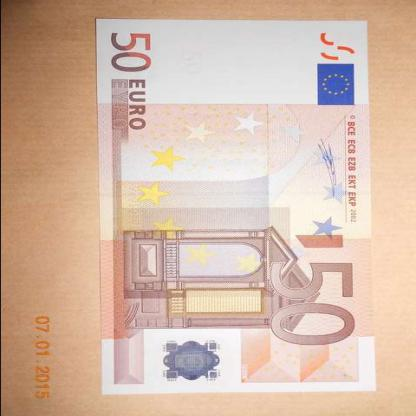euro_banknote: (49, 70, 416, 341)
